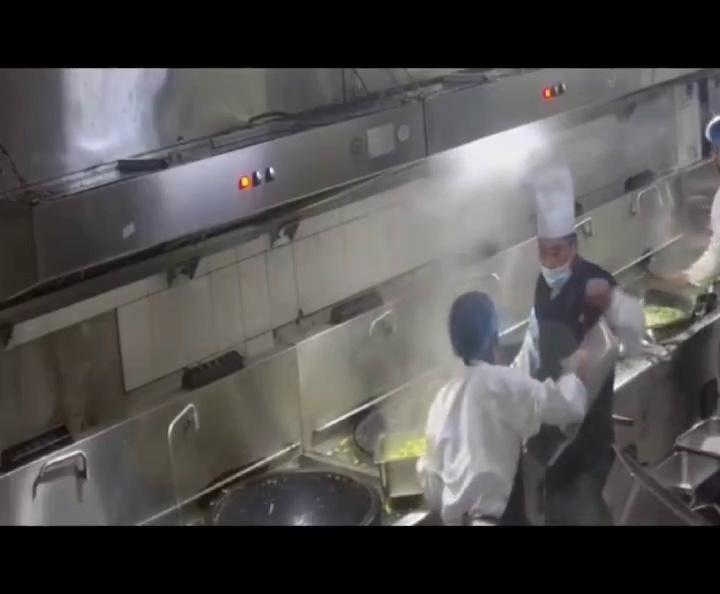mask: (542, 242, 576, 284)
